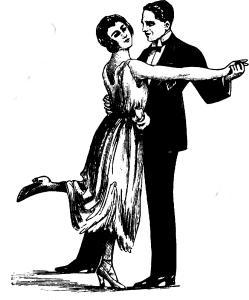person: (46, 4, 149, 288), (136, 1, 233, 291)
